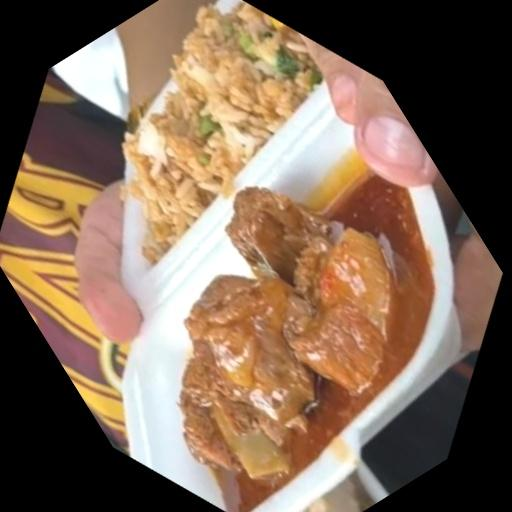pork caldereta: (172, 171, 431, 506)
